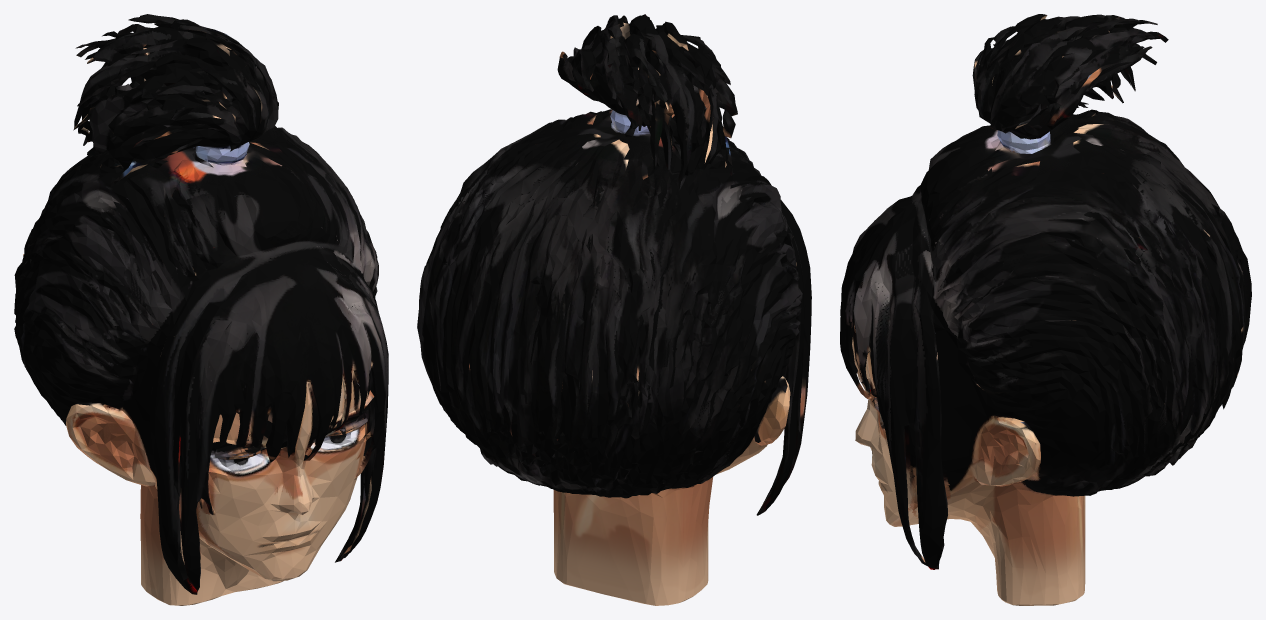
Rendered from side_craneguard_repaired_atlas.glb.
3 views of the same model, side by side, from view 1: azimuth 30°, elevation 25°; view 2: azimuth 150°, elevation 25°; view 3: azimuth 270°, elevation 25° (orthographic). The views are drawn at different scales.
Visible parts, largest first — view 1: temp_mesh.ply; view 2: temp_mesh.ply; view 3: temp_mesh.ply.
Boxes of the visible parts, x1,y1,x2,y2 form: temp_mesh.ply: [14, 14, 388, 605]; temp_mesh.ply: [417, 14, 811, 605]; temp_mesh.ply: [840, 14, 1251, 605].
Bounding box in the file's own units: 1.22 × 1.97 × 1.35.
1 material, 1 textured.
